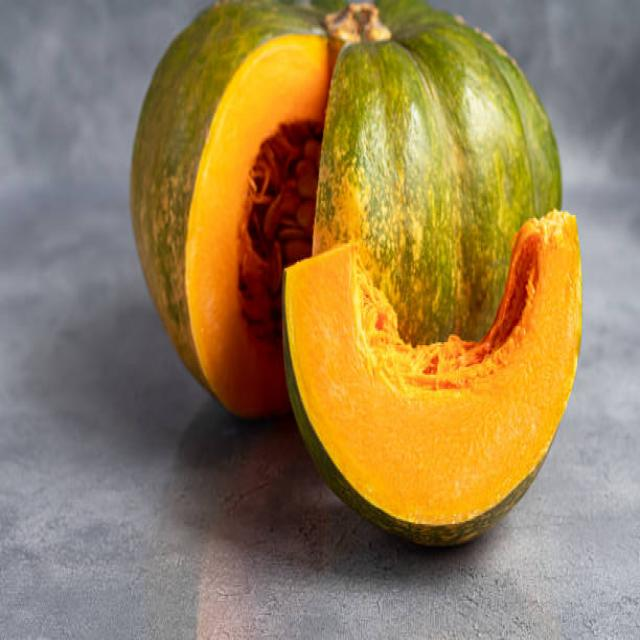Pumpkin: (278, 224, 582, 539), (127, 0, 280, 412), (323, 3, 561, 225)
